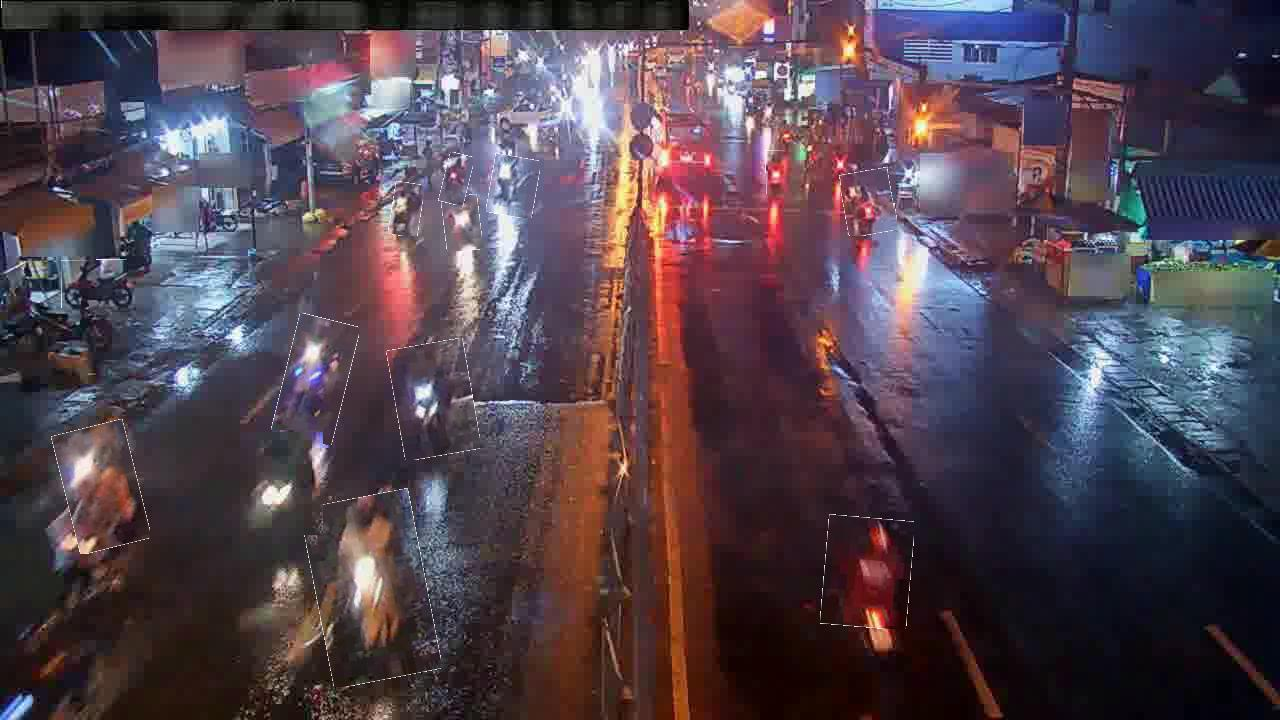motorbike: (308, 493, 434, 684), (58, 423, 145, 552), (823, 516, 913, 629), (391, 341, 477, 459), (278, 316, 354, 444), (256, 430, 324, 536), (842, 169, 896, 236), (61, 260, 128, 309), (489, 155, 539, 218), (442, 195, 482, 252), (390, 182, 423, 237), (441, 153, 472, 205), (766, 150, 785, 195)
